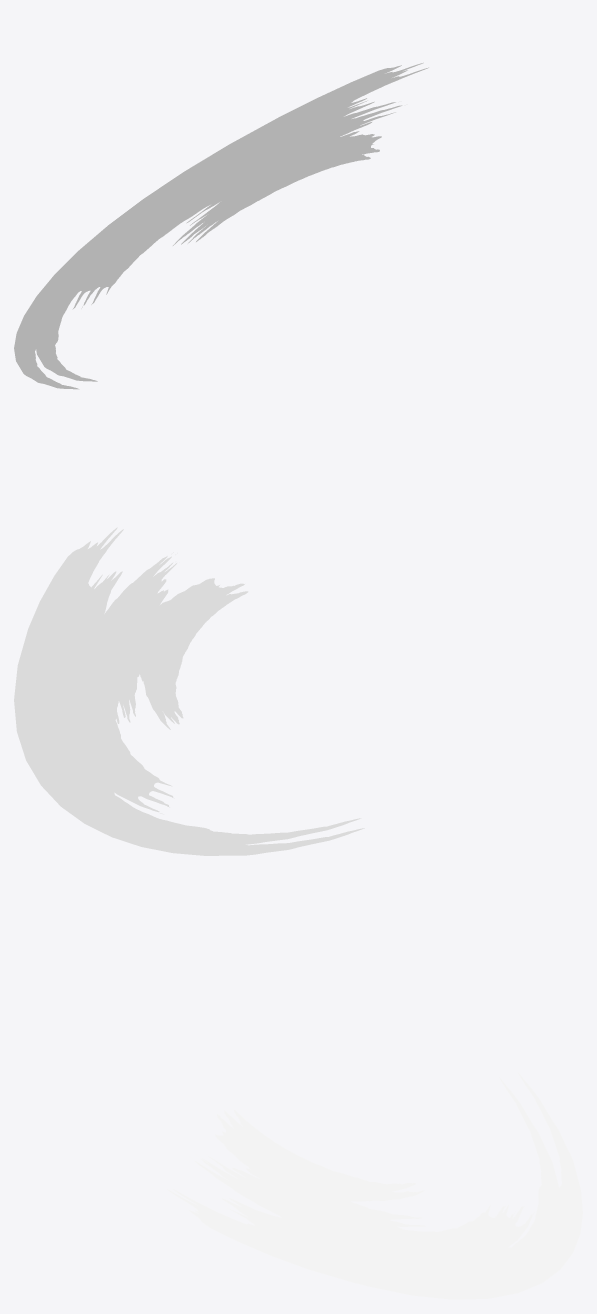
File: fx_cookie0009_front_skill01.fbx
3 renders of one model, top to bottom at view 1: azimuth 90°, elevation 25°; view 2: azimuth 150°, elevation 25°; view 3: azimuth 270°, elevation 25°, orthographic. The views are drawn at different scales.
Visible parts, largest first — view 1: scratch_trail_01, scratch_trail_02; view 2: scratch_trail_01, scratch_trail_02; view 3: scratch_trail_01, scratch_trail_02.
Part boxes in pixels (x1,y1,x2,y2): scratch_trail_01: [14, 62, 423, 389]; scratch_trail_02: [36, 67, 428, 381]; scratch_trail_01: [14, 527, 364, 855]; scratch_trail_02: [80, 529, 361, 844]; scratch_trail_01: [173, 1073, 582, 1299]; scratch_trail_02: [167, 1077, 558, 1283].
Bounding box in the file's own units: 472 × 176 × 383.
